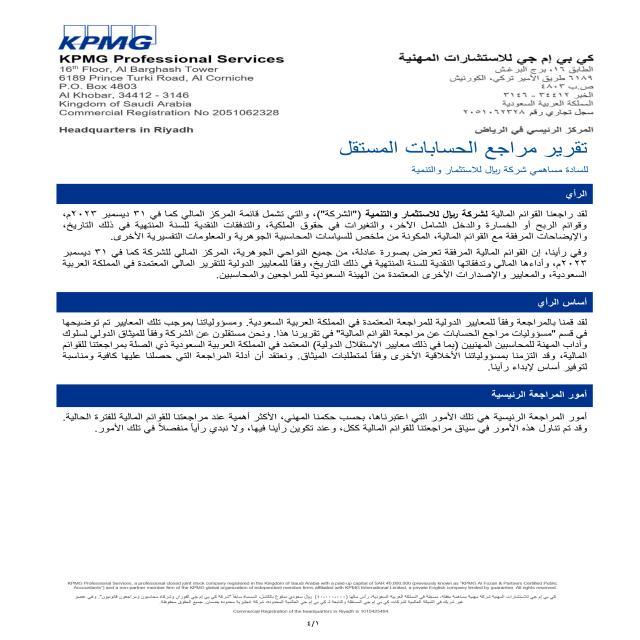auditor_report: (331, 136, 595, 161)
